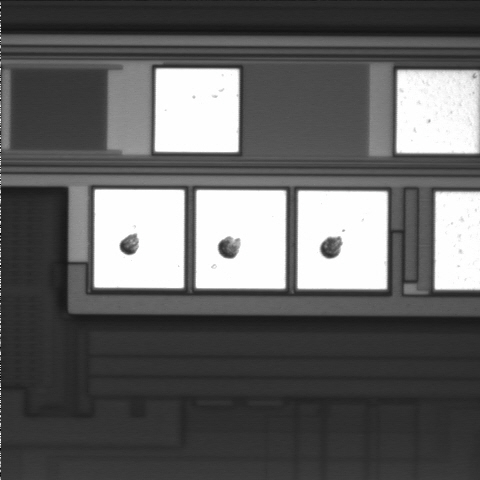pad: (196, 190, 286, 289), (94, 190, 184, 288), (298, 191, 387, 289), (155, 69, 239, 152)
